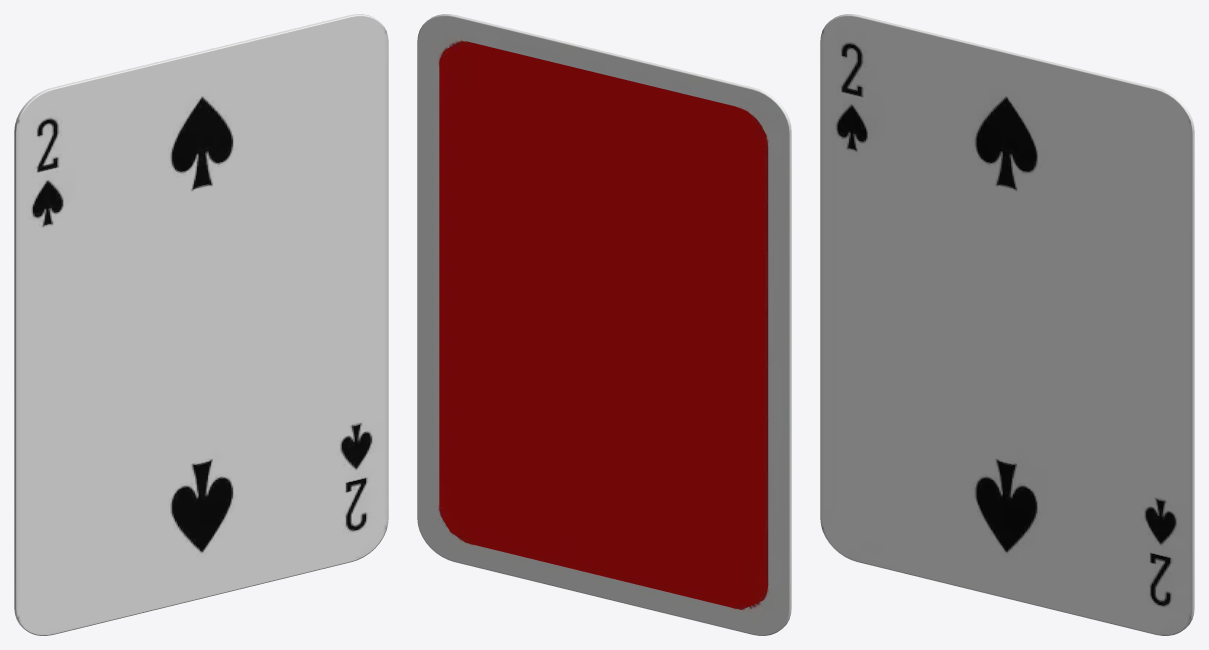
File: spades_2-transformed.glb
3 renders of one model, left to right at view 1: azimuth 30°, elevation 25°; view 2: azimuth 150°, elevation 25°; view 3: azimuth 330°, elevation 25°, orthographic.
Visible parts, largest first — view 1: defaultMaterial.010; view 2: defaultMaterial.010; view 3: defaultMaterial.010.
Boxes of the visible parts, x1,y1,x2,y2 form: defaultMaterial.010: (14,14,388,635); defaultMaterial.010: (417,14,791,635); defaultMaterial.010: (820,14,1194,635).
Size of the model in its own units: 0.1408 by 0.1972 by 0.00111.
1 material, 1 textured.
